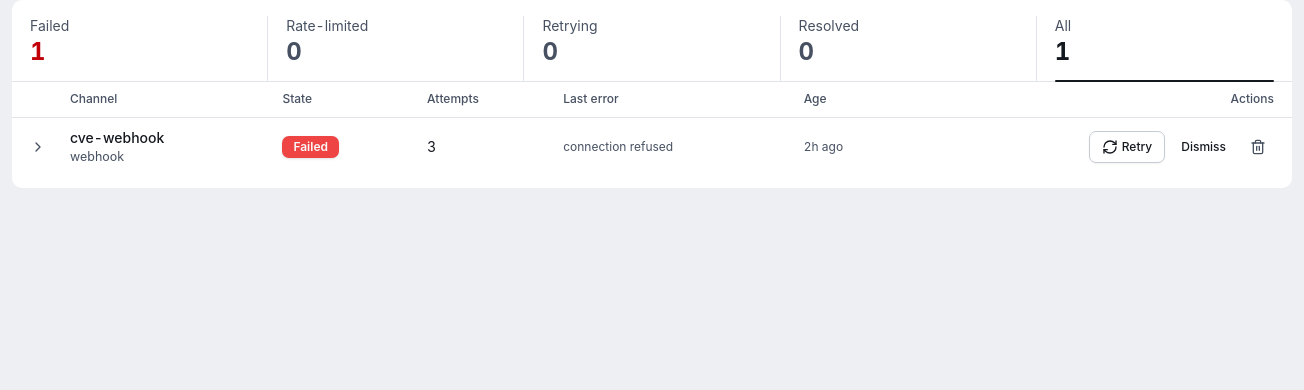
Test: NotificationDLQTable — hidden payload › explains a hidden payload rather than showing null
The image size is (1304, 390).
Click the text "cve-webhook". click: (117, 138)
box: [70,129,164,146]
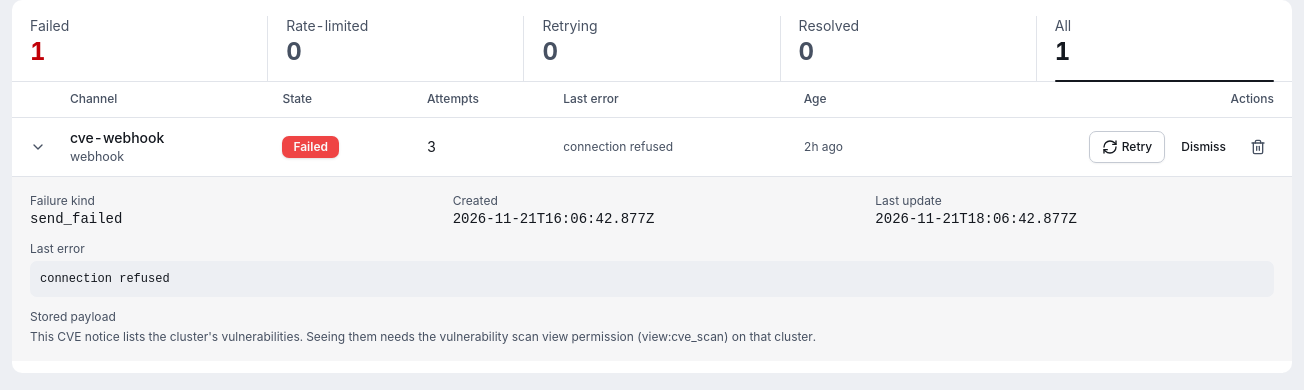
Expected: the text "needs the vulnerability scan view permission" is shown, [30,329,816,344]
